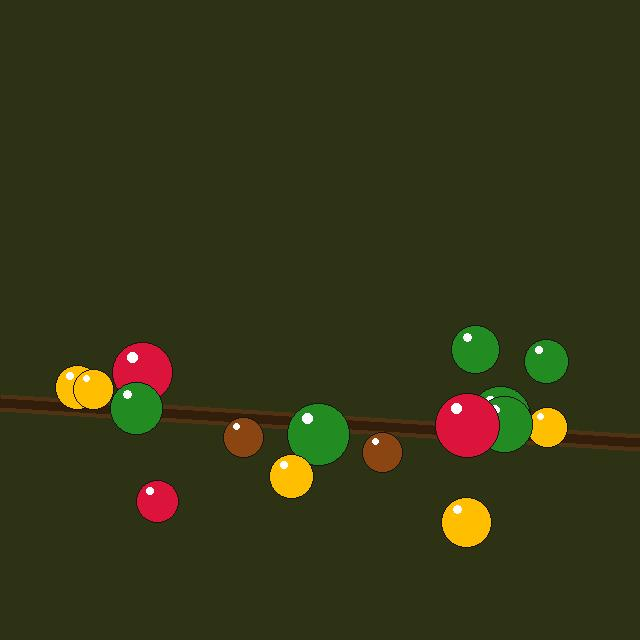Overripe: (223, 417, 263, 457), (362, 432, 402, 472)
Ripe: (435, 393, 499, 457), (112, 342, 172, 402), (136, 480, 178, 522)
Ripening: (441, 497, 491, 547), (55, 365, 99, 409), (269, 454, 313, 498), (527, 407, 567, 447), (73, 369, 113, 409)
Unripe: (287, 403, 349, 465), (470, 386, 530, 446), (476, 396, 532, 452), (110, 382, 162, 434), (451, 325, 499, 373), (524, 339, 568, 383)
